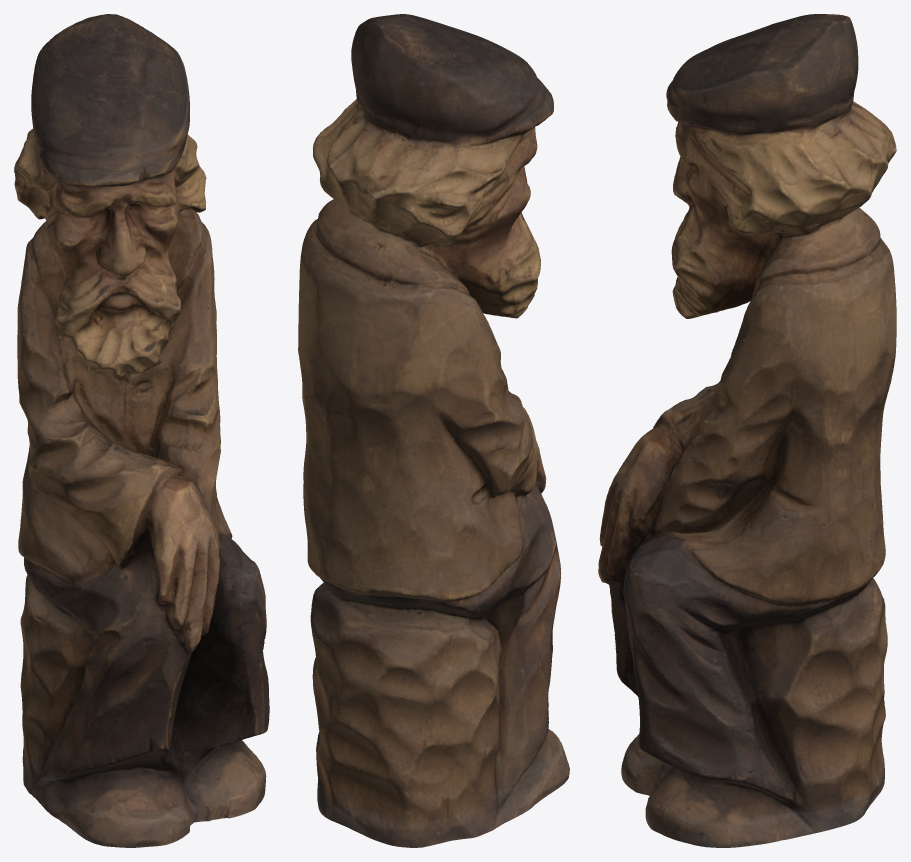
File: MPL_W_E_1488_lowpoly.glb
3 views of the same model, side by side, from view 1: azimuth 30°, elevation 25°; view 2: azimuth 150°, elevation 25°; view 3: azimuth 270°, elevation 25° (orthographic). The views are drawn at different scales.
Parts seen in each view (by area): view 1: MPL_W_E_1488_lowpoly; view 2: MPL_W_E_1488_lowpoly; view 3: MPL_W_E_1488_lowpoly.
Part boxes in pixels (x1,y1,x2,y2): MPL_W_E_1488_lowpoly: (14, 14, 269, 847); MPL_W_E_1488_lowpoly: (298, 14, 569, 847); MPL_W_E_1488_lowpoly: (598, 14, 896, 847).
Bounding box in the file's own units: 0.0798 × 0.2807 × 0.0978.
1 material, 1 textured.
